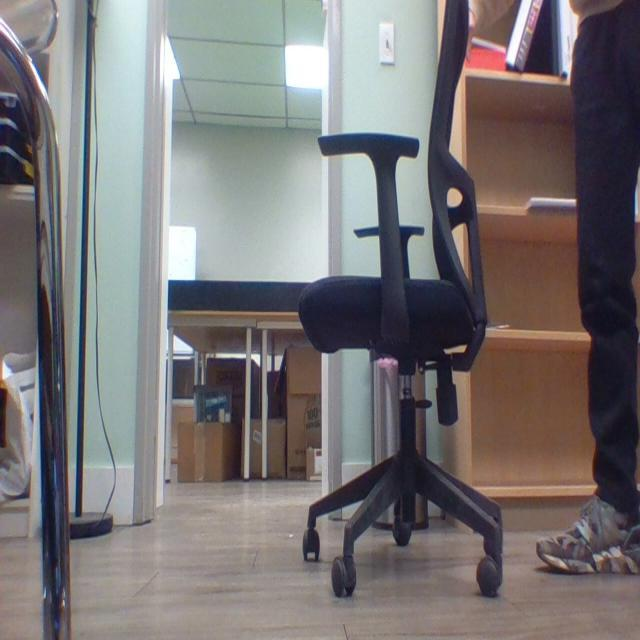chair: (291, 1, 507, 639)
